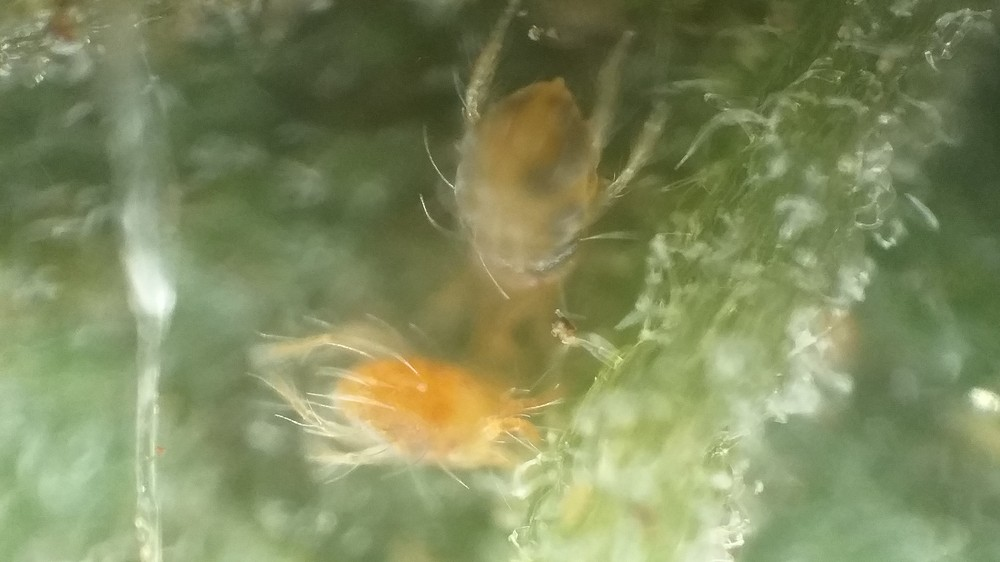Aracnido Rojo: (391, 1, 679, 388), (228, 311, 632, 510)
